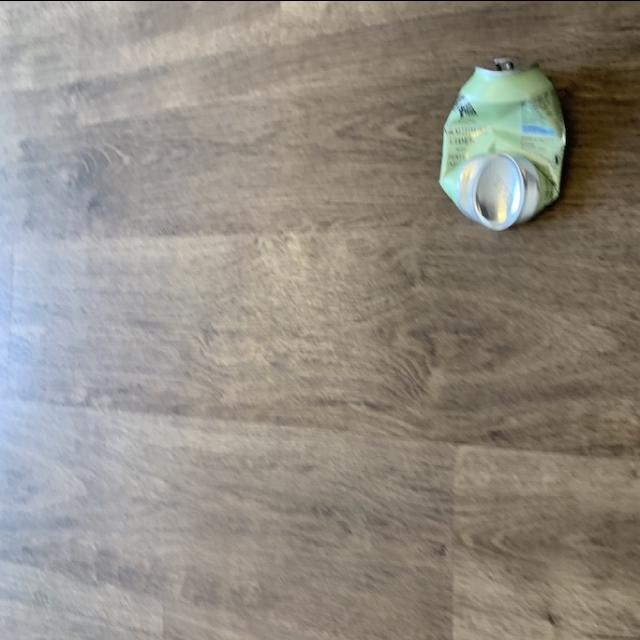Aluminum Can: (427, 35, 581, 250)
